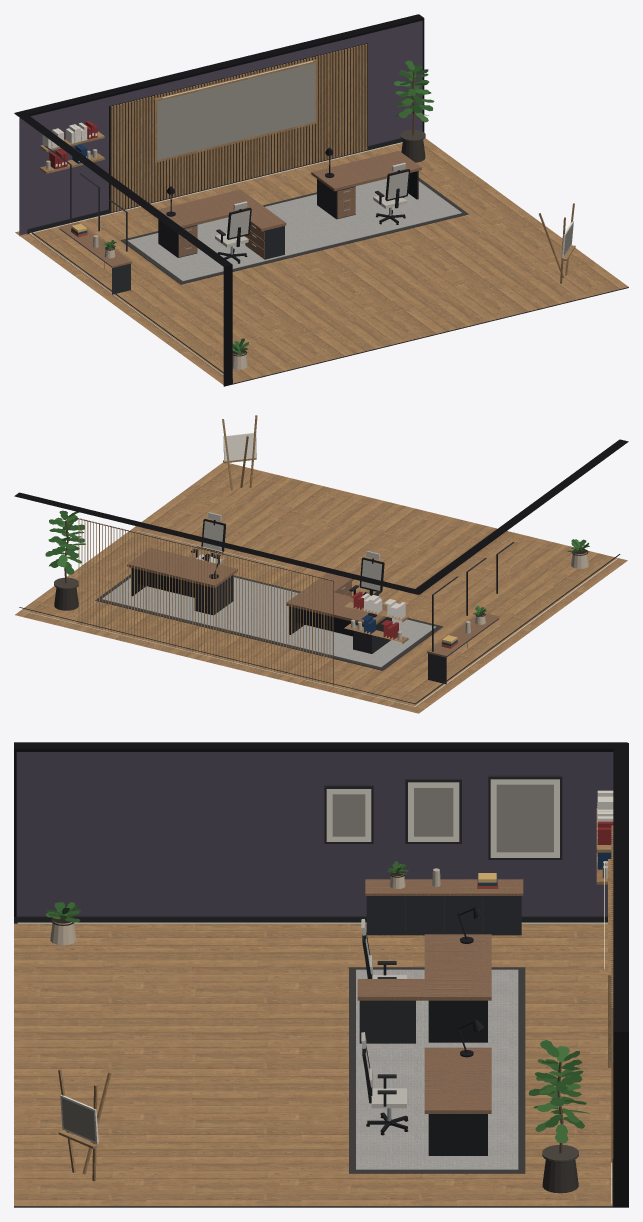
The model's file is design.gltf.
3 renders of one model, top to bottom at view 1: azimuth 30°, elevation 25°; view 2: azimuth 150°, elevation 25°; view 3: azimuth 270°, elevation 25°, orthographic. The views are drawn at different scales.
Visible parts, largest first — view 1: room_design, leds_design; view 2: room_design, leds_design; view 3: room_design, leds_design.
Part boxes in pixels (box(x1,y1,x2,y2)): room_design: box(14, 14, 628, 386); leds_design: box(29, 61, 402, 375); room_design: box(14, 415, 628, 713); leds_design: box(22, 531, 617, 707); room_design: box(14, 742, 628, 1207); leds_design: box(17, 861, 611, 1204).
Size of the model in its own units: 9.72 by 2.75 by 8.72.
14 materials, 5 textured.
